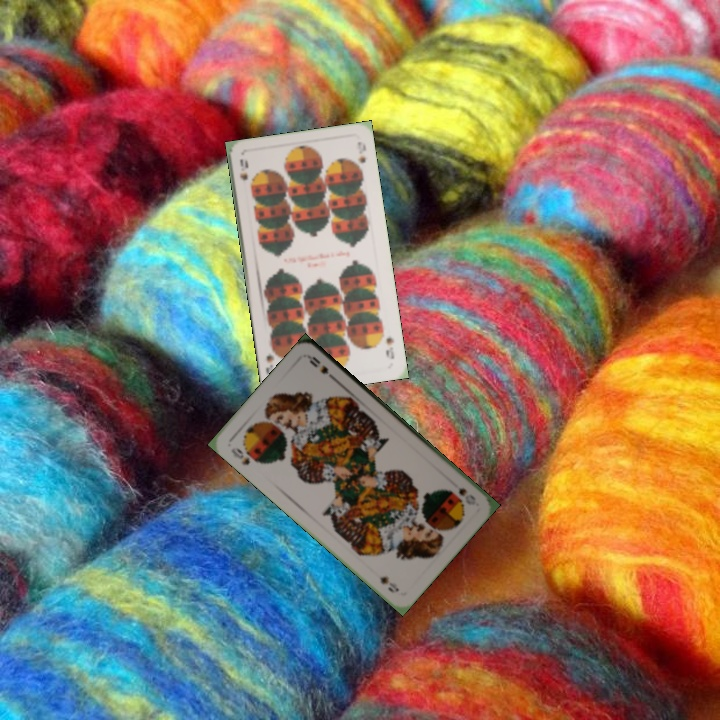S9: (382, 333, 397, 362), (236, 155, 251, 183)
SO: (227, 443, 260, 468), (454, 484, 478, 508)
